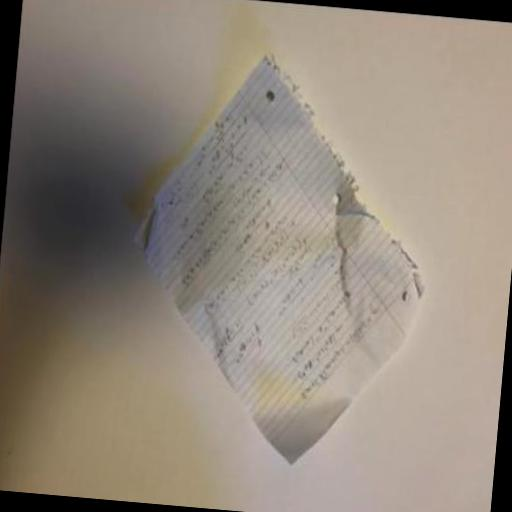paper: (113, 47, 442, 474)
